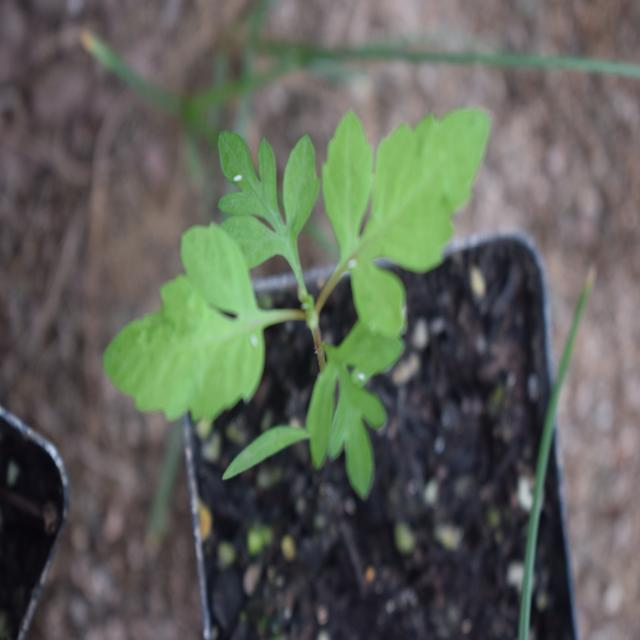Bidens pilosa: (117, 75, 470, 464)
